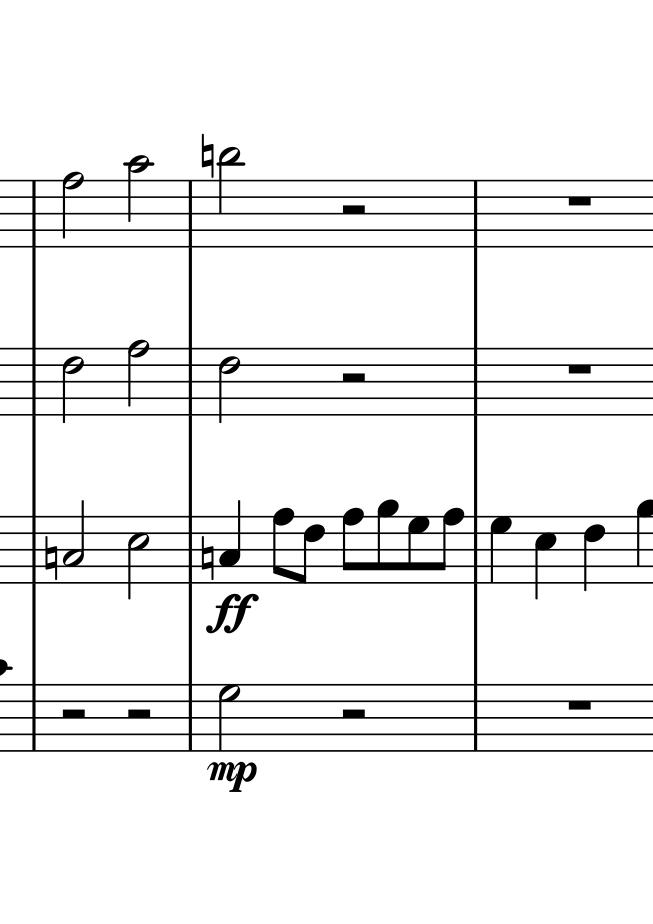2_10: (124, 153, 153, 251)
2_11: (216, 145, 244, 254)
2_3: (62, 492, 89, 587)
2_5: (125, 514, 153, 600)
2_6: (218, 346, 244, 426), (60, 346, 83, 426)
2_7: (217, 681, 244, 756)
2_8: (123, 338, 151, 421), (61, 171, 88, 252)
4_3: (219, 494, 245, 585)
4_5: (530, 514, 560, 600)
4_6: (579, 511, 608, 593)
4_7: (487, 514, 515, 584)
8_6: (296, 513, 324, 586)
8_7: (405, 513, 430, 586)
8_8: (435, 507, 470, 585), (270, 507, 300, 587), (339, 507, 365, 588)
8_9: (372, 498, 400, 589)
Natural: (193, 531, 220, 576), (40, 534, 61, 584), (197, 131, 216, 182)
Rests1: (564, 693, 598, 713), (565, 360, 596, 377), (566, 191, 594, 209)
Rests2: (337, 368, 370, 389), (339, 201, 370, 222), (122, 704, 153, 724), (334, 706, 370, 723), (60, 703, 88, 724)
Single_barline: (26, 179, 44, 247), (182, 179, 200, 247), (464, 179, 482, 247), (466, 347, 484, 415), (181, 347, 199, 415), (25, 347, 43, 415), (23, 515, 41, 583), (179, 514, 197, 582), (467, 515, 485, 583), (466, 683, 484, 751), (181, 683, 199, 751), (26, 684, 44, 752)
ff: (206, 590, 258, 641)
mp: (204, 757, 259, 791)
